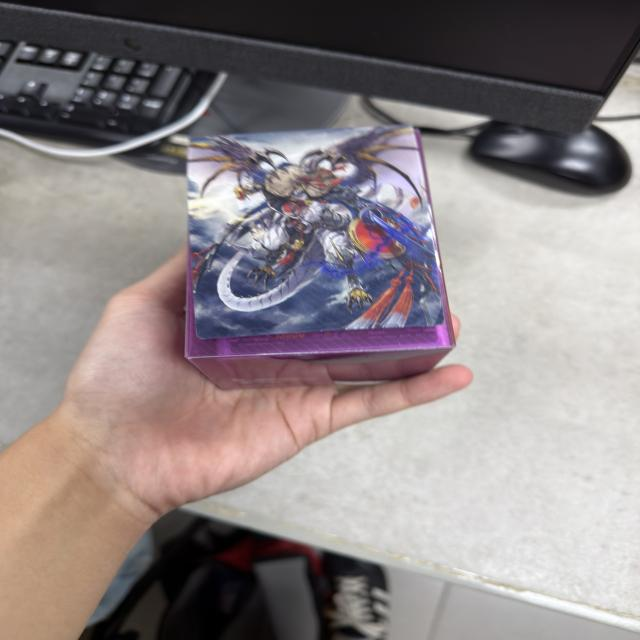box: (178, 127, 456, 382)
